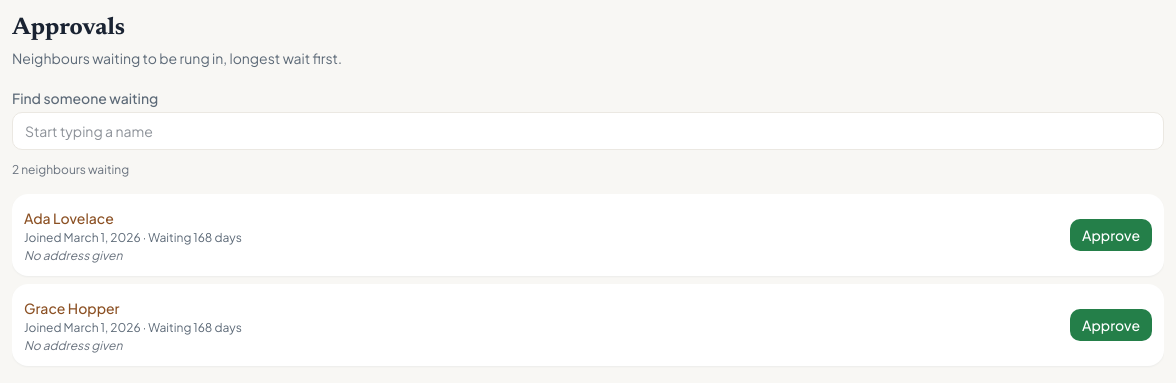
Test: Approvals approving › rings the applicant in and takes them out of the queue
This screenshot has width=1176, height=383.
Step 1. Click the button with aria-label "Approve Ada Lovelace" → coordinates (1111, 235), box [1070, 219, 1152, 251]
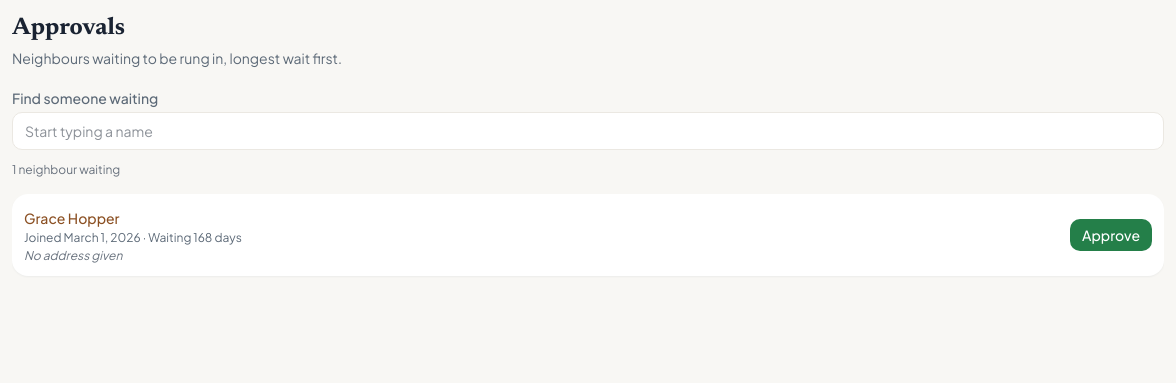
Expected: the link "Grace Hopper" is shown, [24, 209, 120, 227]
Now the link "Ada Lovelace" is gone
